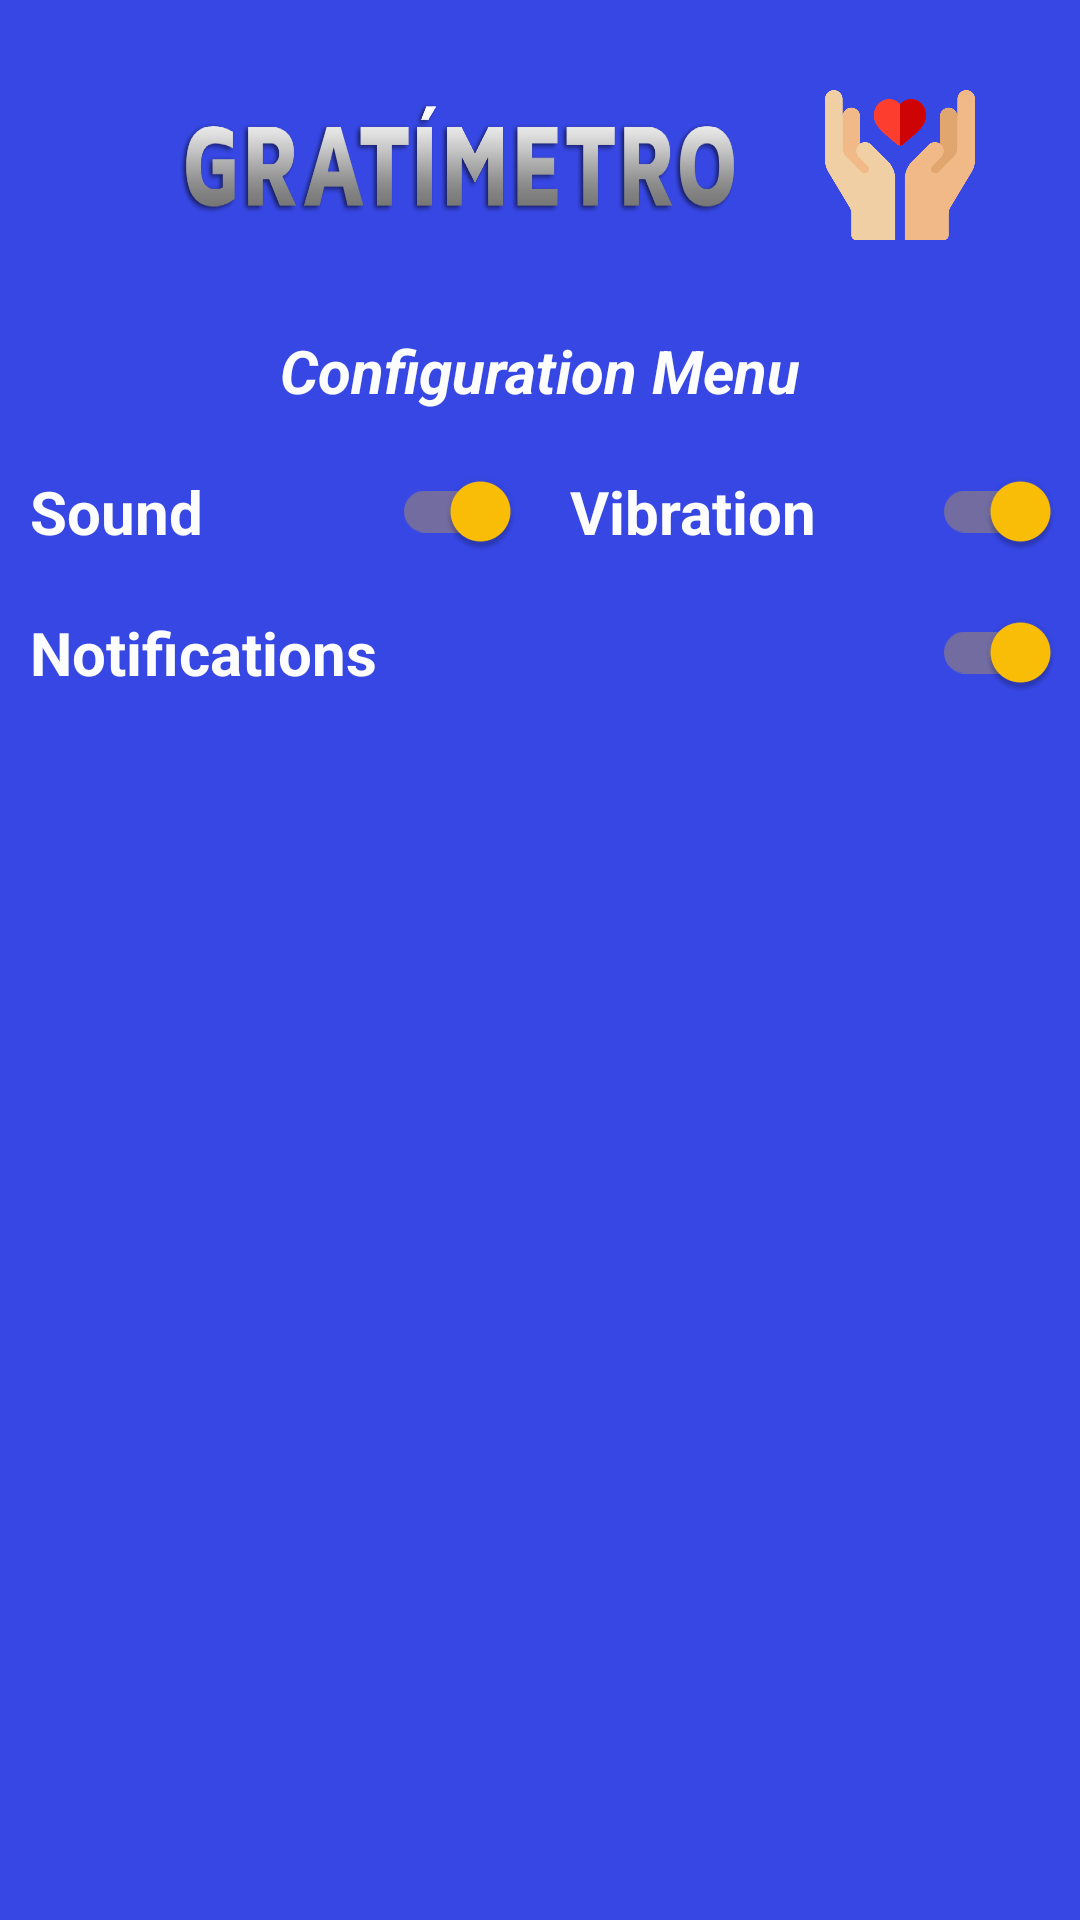

Named icons in this screenshot (1080w x 1920h) and their bounding boxes, (x1, y1, x2, y2):
hands: (825, 90, 975, 240)
